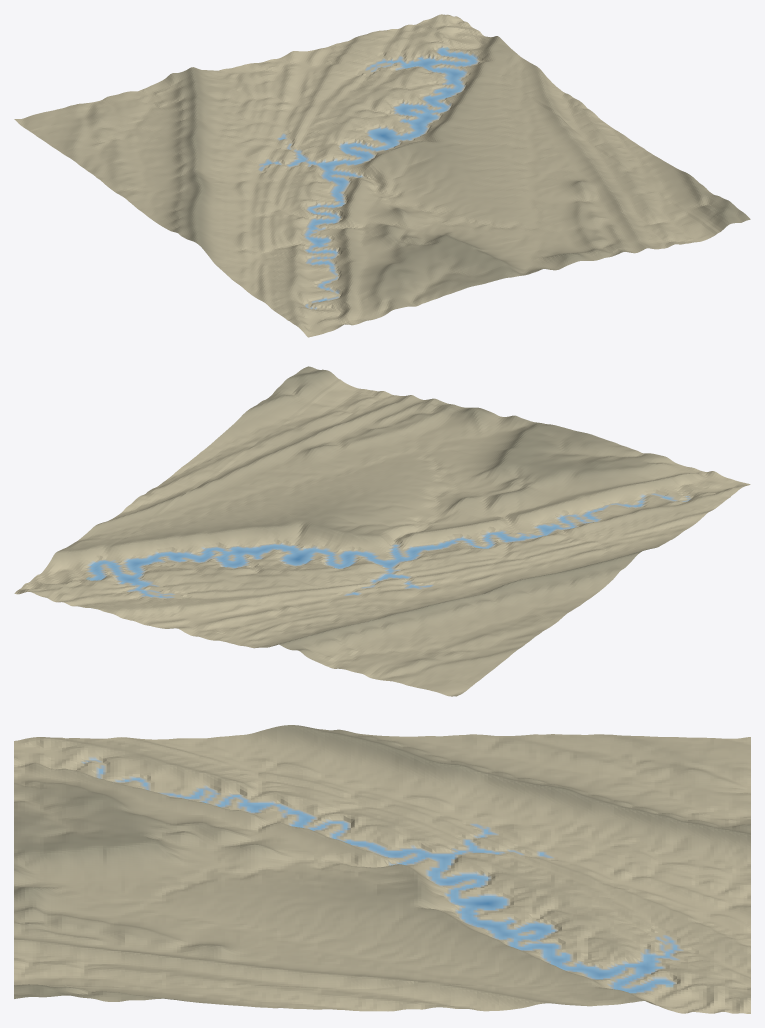
The model's file is raystown_lake_pa.glb.
3 views of the same model, one above another, from view 1: azimuth 30°, elevation 25°; view 2: azimuth 150°, elevation 25°; view 3: azimuth 270°, elevation 25° (orthographic). The views are drawn at different scales.
Visible parts, largest first — view 1: terrain, water; view 2: terrain, water; view 3: terrain, water.
Part boxes in pixels (x1,y1,x2,y2): terrain: [14, 14, 750, 337]; water: [264, 47, 476, 301]; terrain: [14, 366, 750, 696]; water: [86, 496, 670, 597]; terrain: [14, 725, 750, 1013]; water: [99, 769, 676, 993].
Size of the model in its own units: 23110 by 782 by 26600.
